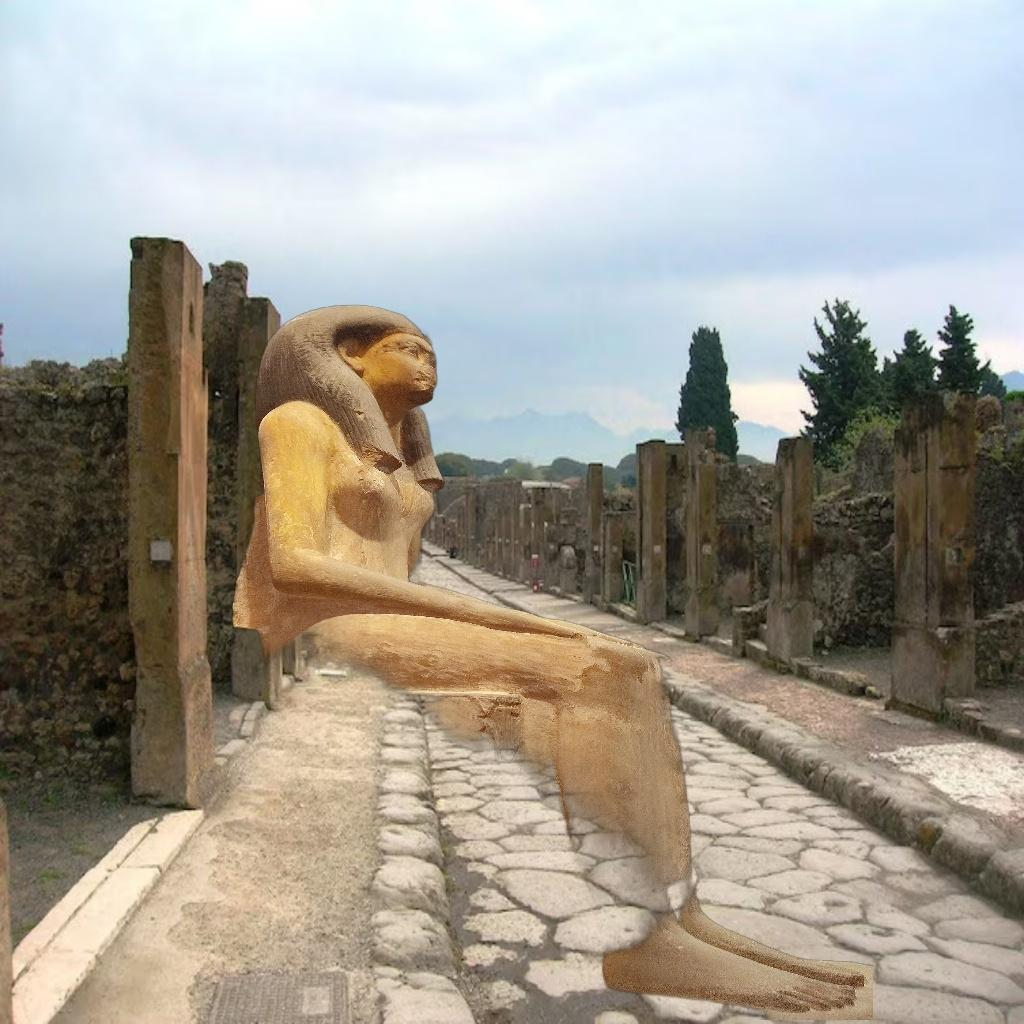Statue of Queen Metnoforet: (172, 299, 873, 1020)
